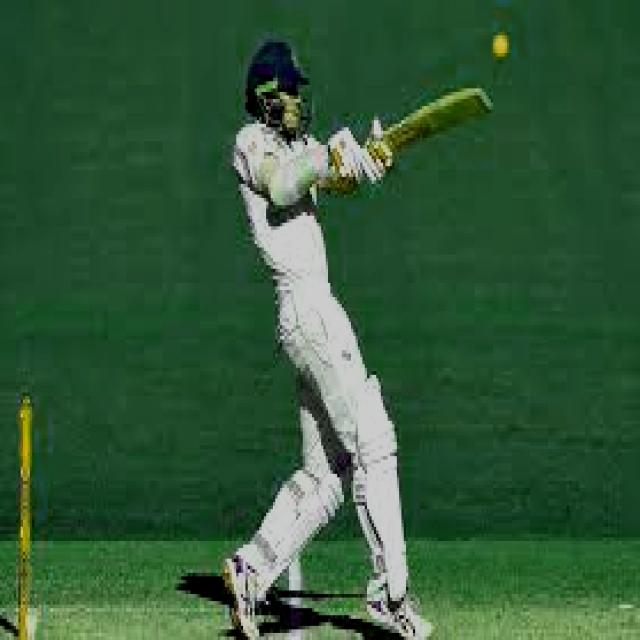toe: (467, 84, 495, 115)
